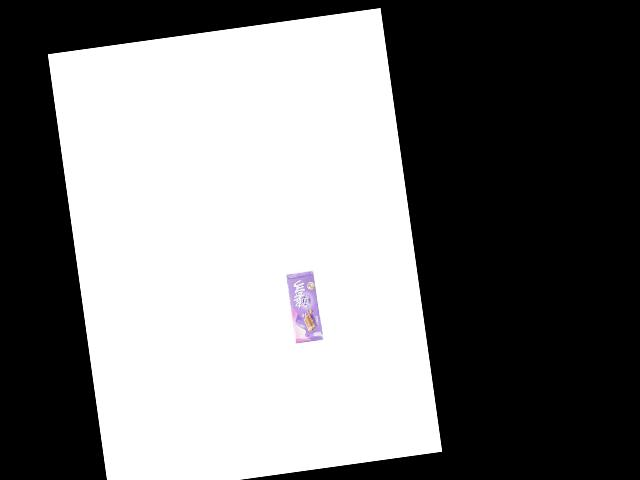chocolate: (285, 270, 324, 343)
